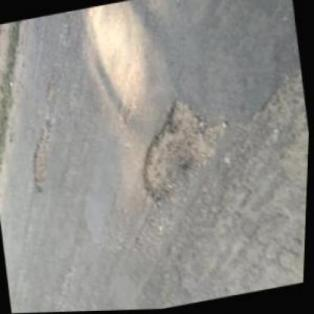Hueco: (127, 87, 229, 205), (24, 122, 61, 194)
